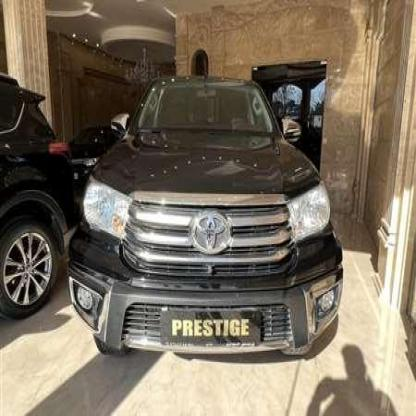Car: (75, 58, 348, 367), (0, 73, 68, 316), (70, 113, 125, 178)
